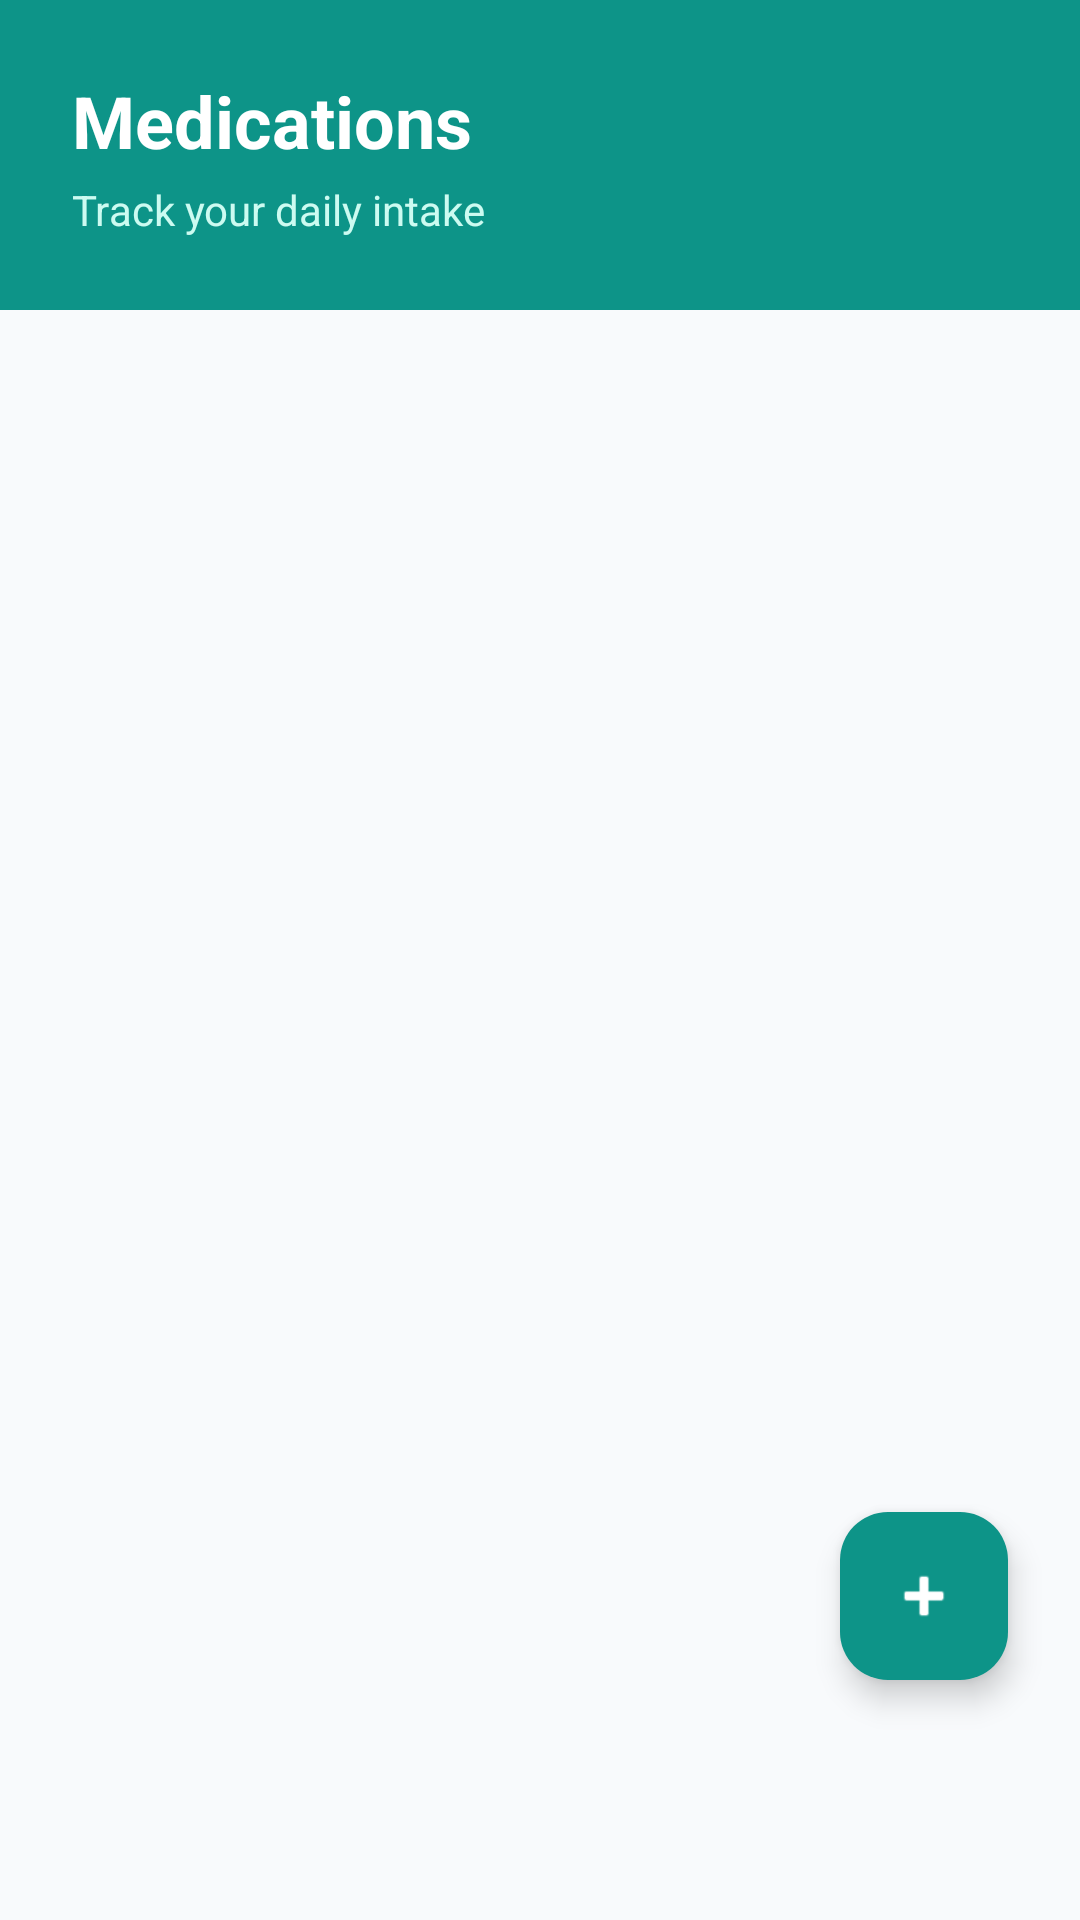

Named icons in this screenshot (1080×1920) and their centers, (x,y):
Add Medication: (924,1596)
